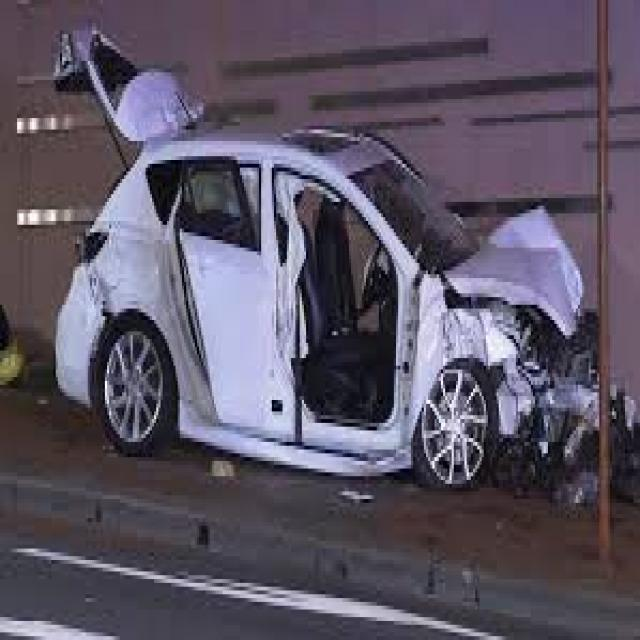accident: (42, 56, 624, 529)
